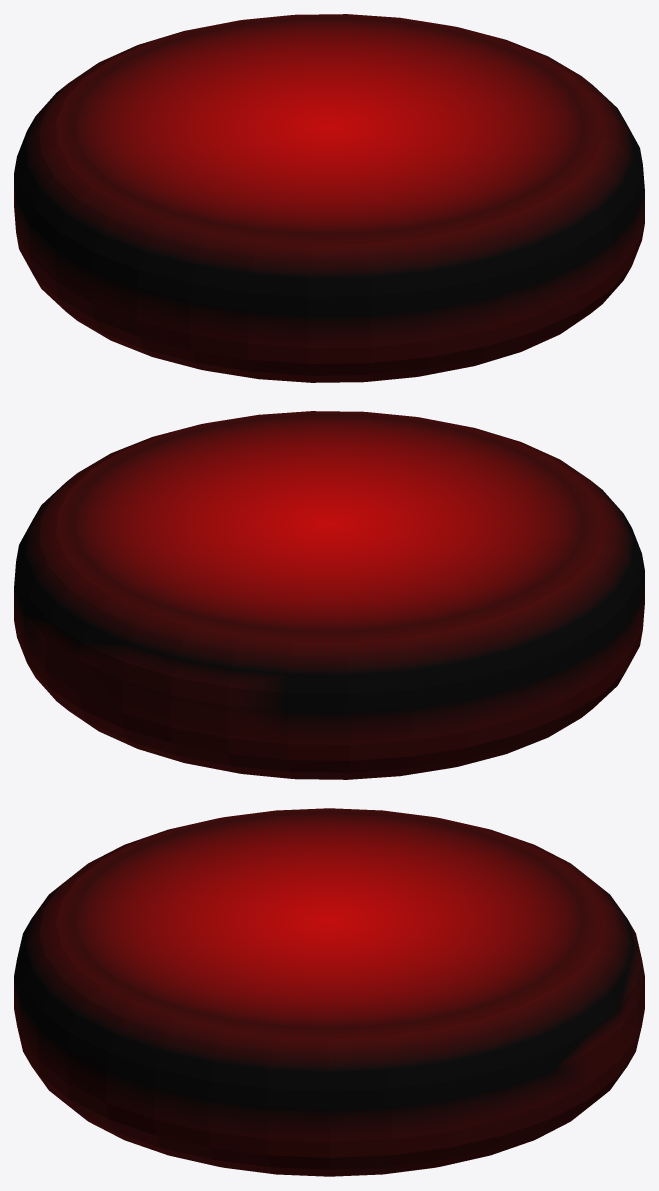
The model's file is PaintedCylinderRedder.fbx.
3 renders of one model, top to bottom at view 1: azimuth 30°, elevation 25°; view 2: azimuth 150°, elevation 25°; view 3: azimuth 270°, elevation 25°, orthographic.
Visible parts, largest first — view 1: Cylinder; view 2: Cylinder; view 3: Cylinder.
Part boxes in pixels (x1=…): Cylinder: x1=14, y1=14, x2=644, y2=382; Cylinder: x1=14, y1=411, x2=644, y2=779; Cylinder: x1=14, y1=808, x2=644, y2=1176.
Size of the model in its own units: 400 by 400 by 100.
